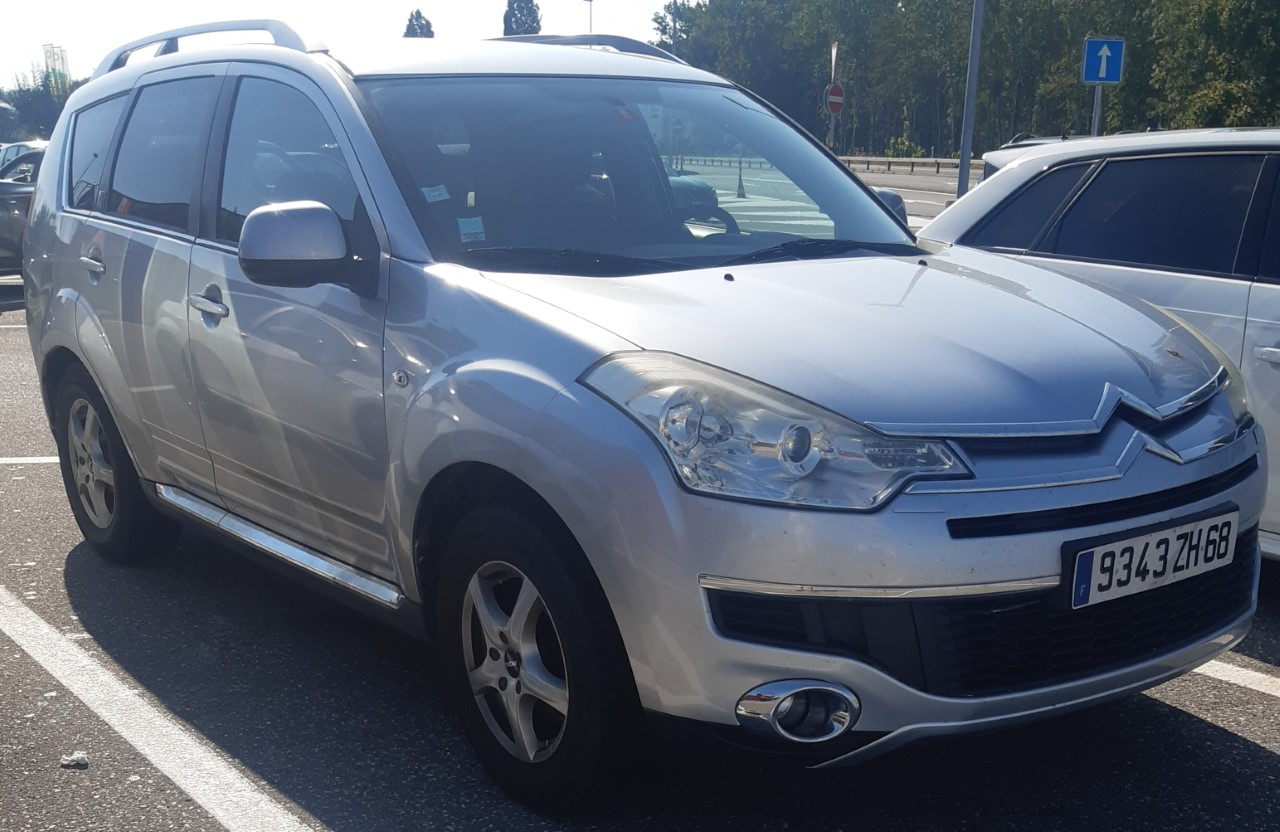licence plate: (1069, 505, 1239, 617)
